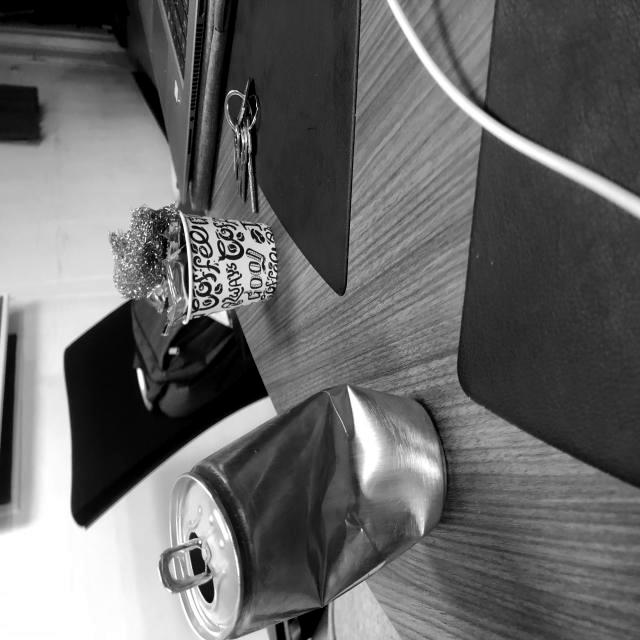deform: (290, 388, 431, 595)
metal: (163, 380, 459, 640)
